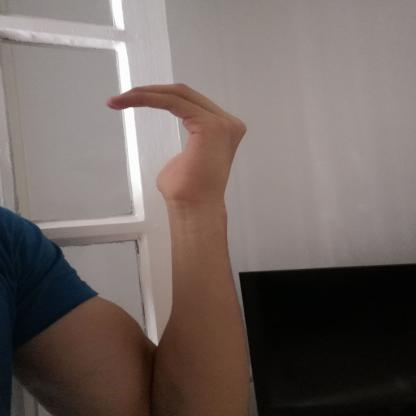HAA: (89, 67, 262, 223)
